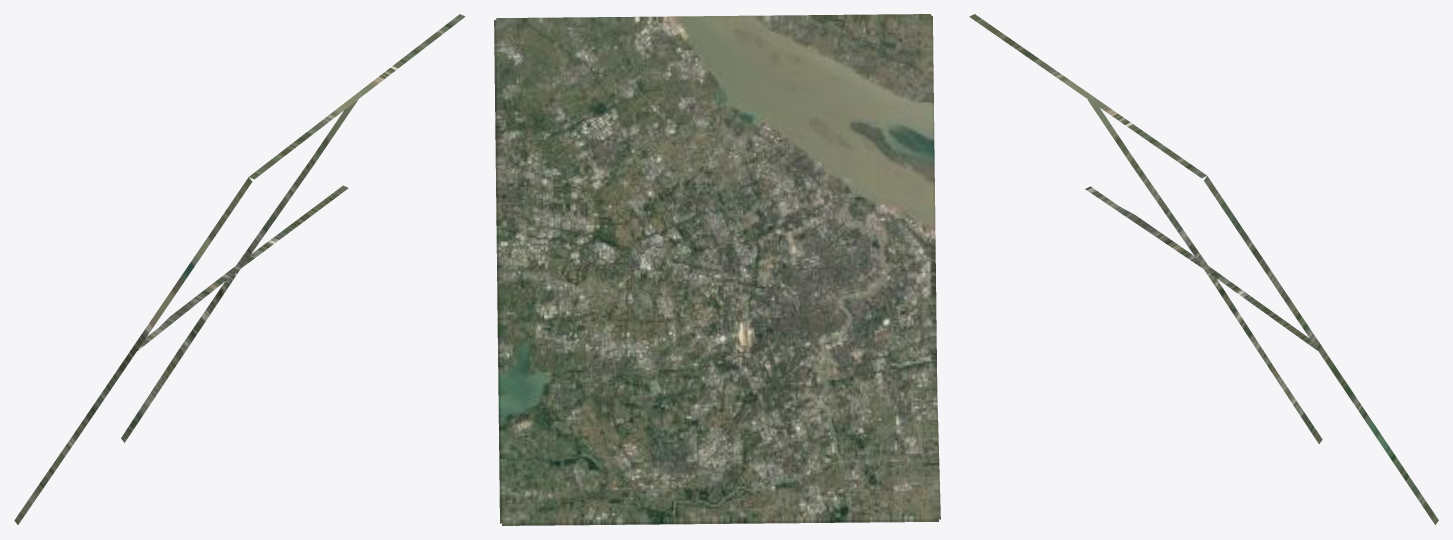
The picture shows the model from 3 angles, left to right: view 1: azimuth 30°, elevation 25°; view 2: azimuth 150°, elevation 25°; view 3: azimuth 270°, elevation 25°; orthographic projection. The views are drawn at different scales.
Bounding box in the file's own units: 79495 × 67683 × 70501.
1 material, 1 textured.
